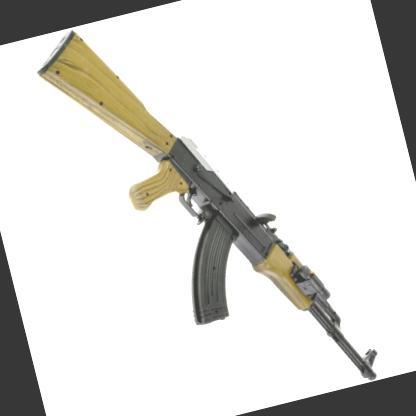rifle: (24, 0, 398, 416)
